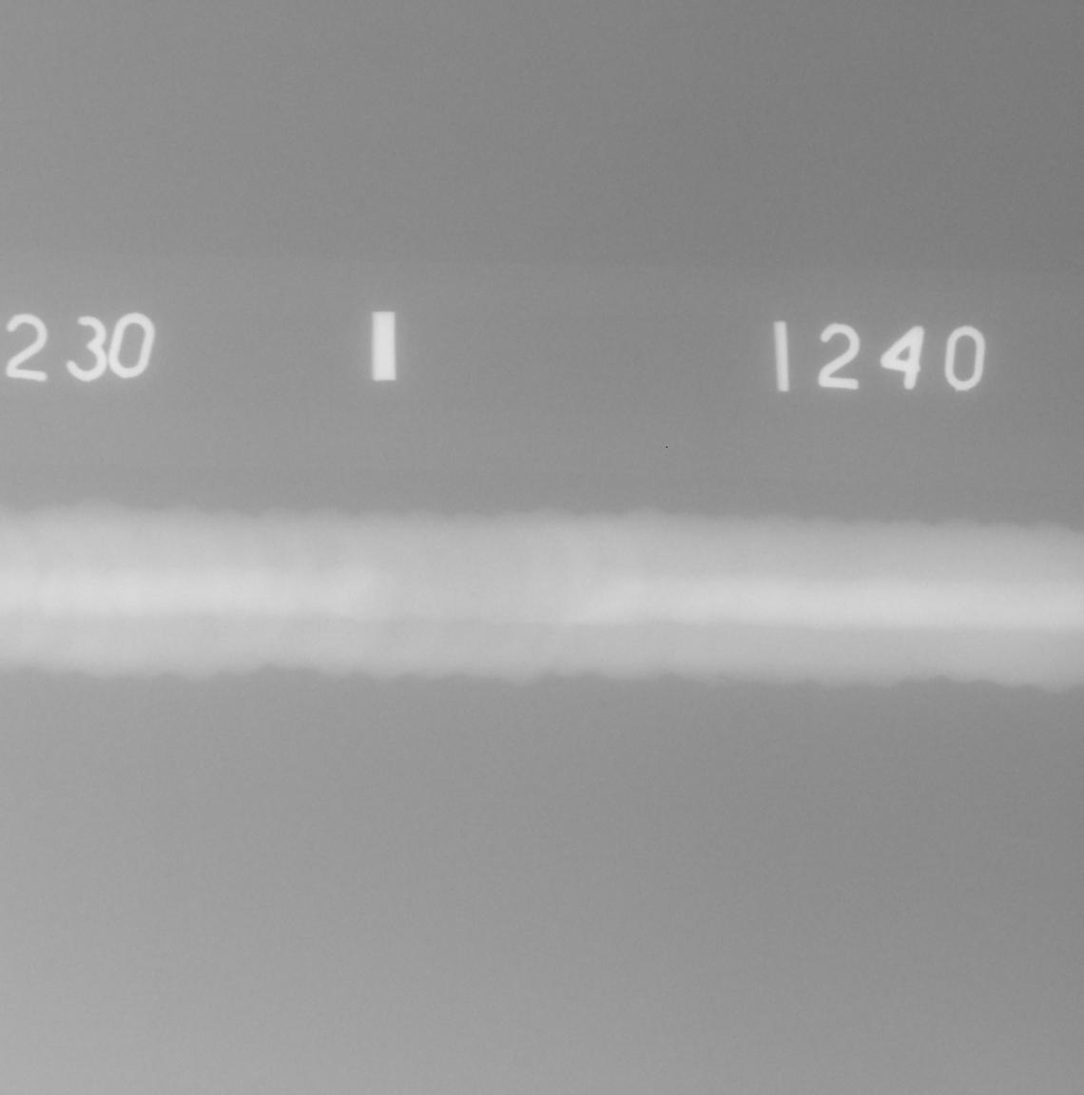Pore/Porosity: (470, 592, 476, 597)
